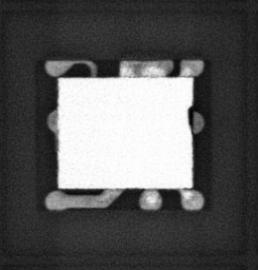DIE_BROKEN: (185, 102, 195, 131)
